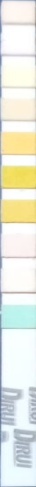color 1: (3, 3, 34, 22)
color 10: (2, 306, 36, 326)
color 2: (2, 35, 34, 53)
color 3: (2, 68, 34, 85)
color 4: (3, 100, 34, 118)
color 5: (2, 133, 36, 153)
color 6: (2, 167, 36, 187)
color 7: (1, 200, 36, 221)
color 8: (2, 237, 36, 255)
color 9: (2, 270, 36, 291)
